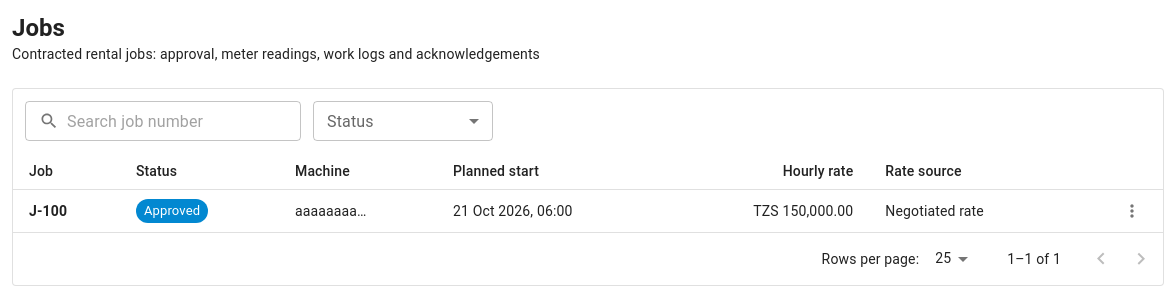
Test: job list row actions › hides Cancel without tenant.job.approve
Click the button named "Actions for job J-100" at (1132, 211), box x1=1117 y1=196 x2=1147 y2=226
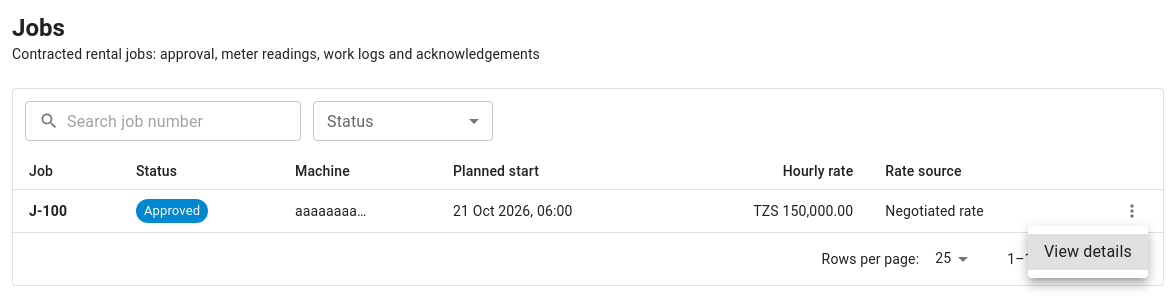
Check: the menu item "View details" is shown, box x1=1028 y1=234 x2=1148 y2=270
